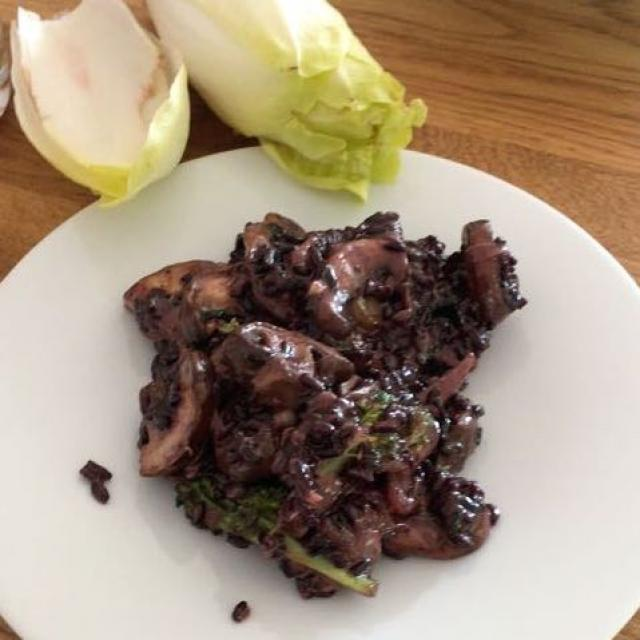risotto: (98, 197, 578, 619)
witloof-chicory: (7, 0, 428, 234)
